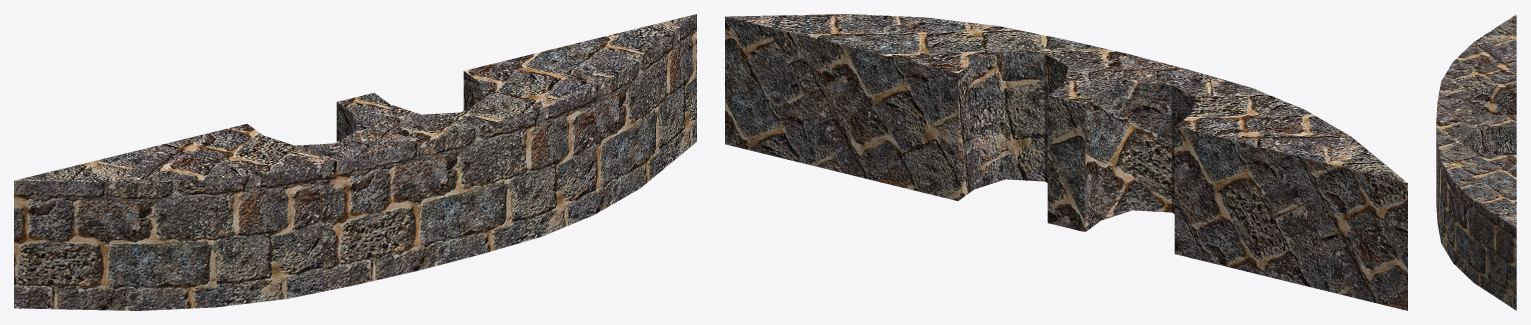
File: bridge.FBX
3 views of the same model, side by side, from view 1: azimuth 30°, elevation 25°; view 2: azimuth 150°, elevation 25°; view 3: azimuth 270°, elevation 25° (orthographic). The views are drawn at different scales.
Parts seen in each view (by area): view 1: Cylinder; view 2: Cylinder; view 3: Cylinder.
Part boxes in pixels (bbox=[...]): Cylinder: bbox=[14, 14, 696, 310]; Cylinder: bbox=[725, 14, 1407, 310]; Cylinder: bbox=[1436, 14, 1516, 310].
Bounding box in the file's own units: 15.27 × 2.73 × 2.42.
